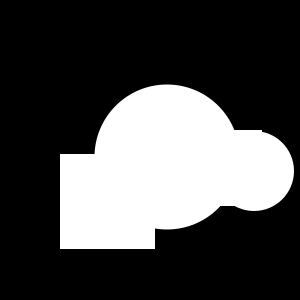circle: (60, 154, 155, 249), (186, 130, 262, 206)
rectangle: (94, 84, 240, 230), (214, 131, 294, 211)
triangle: (114, 140, 183, 209)
